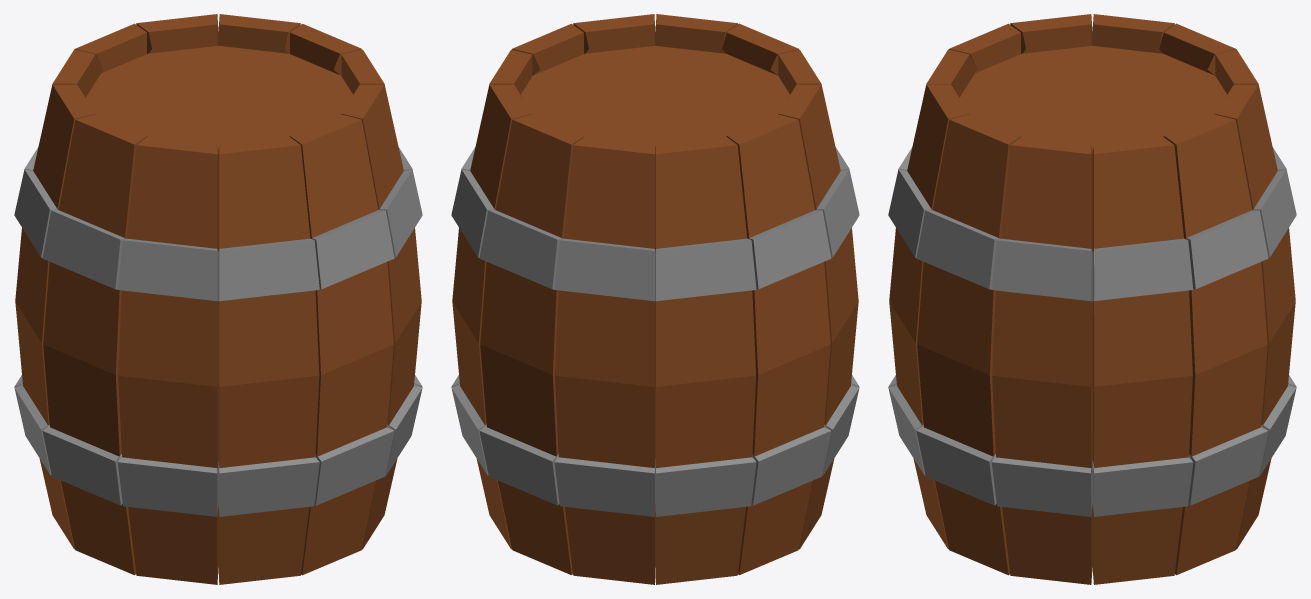
Rendered from barrel2.fbx.
The picture shows the model from 3 angles, left to right: view 1: azimuth 30°, elevation 25°; view 2: azimuth 150°, elevation 25°; view 3: azimuth 270°, elevation 25°; orthographic projection.
Parts seen in each view (by area): view 1: Barrel; view 2: Barrel; view 3: Barrel.
Boxes of the visible parts, box(x1,y1,x2,y2) form: Barrel: box(14, 14, 422, 584); Barrel: box(451, 14, 859, 584); Barrel: box(888, 14, 1296, 584).
Bounding box in the file's own units: 85.9 × 100 × 85.94.
